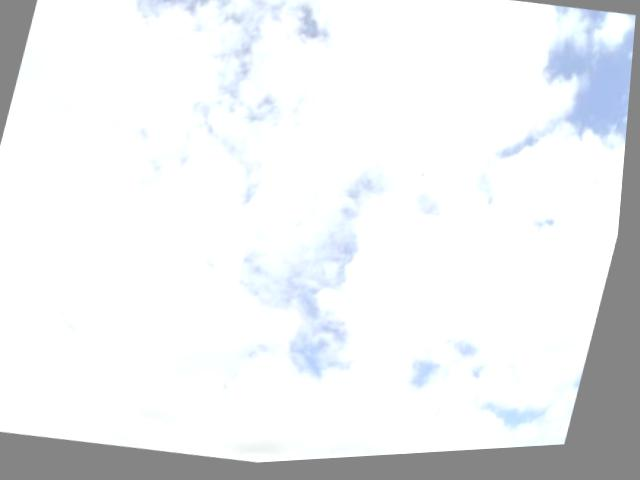uav: (407, 153, 444, 201)
